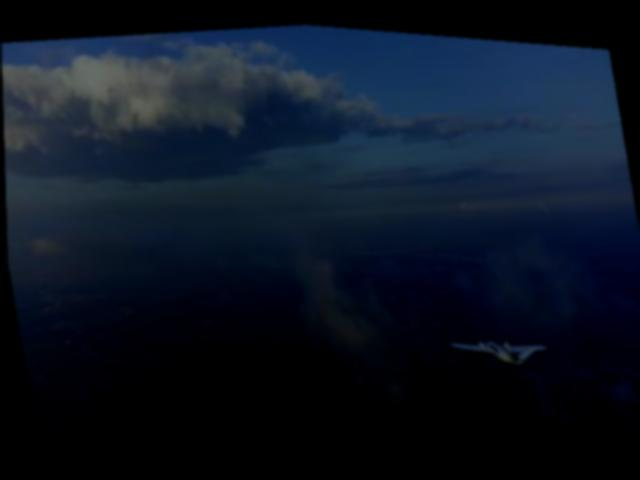uav: (441, 311, 549, 370)
